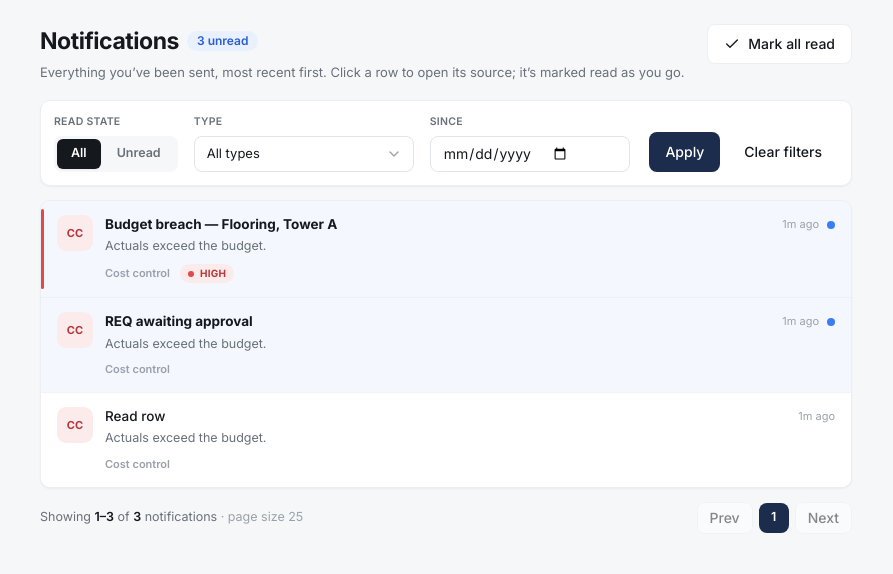
it: NotificationsPage — filters + pagination + empty (FR-NTF-013) › shows "No notifications match these filters." when a filter yields empty
Step 1. Click the button with test id "filter-read-unread" → (139, 154), box x1=103 y1=139 x2=175 y2=169
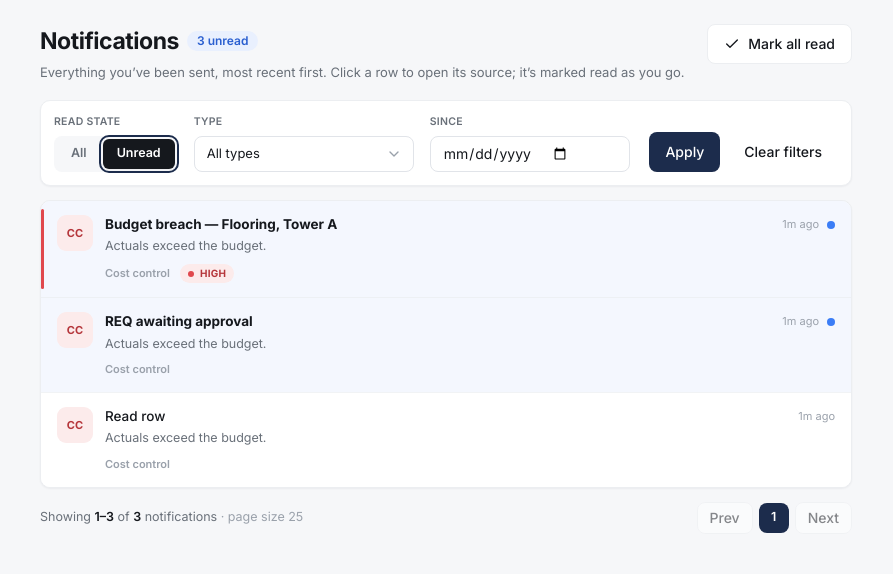
Step 2. Click the button with test id "filter-apply" → (685, 152), box x1=649 y1=132 x2=720 y2=172
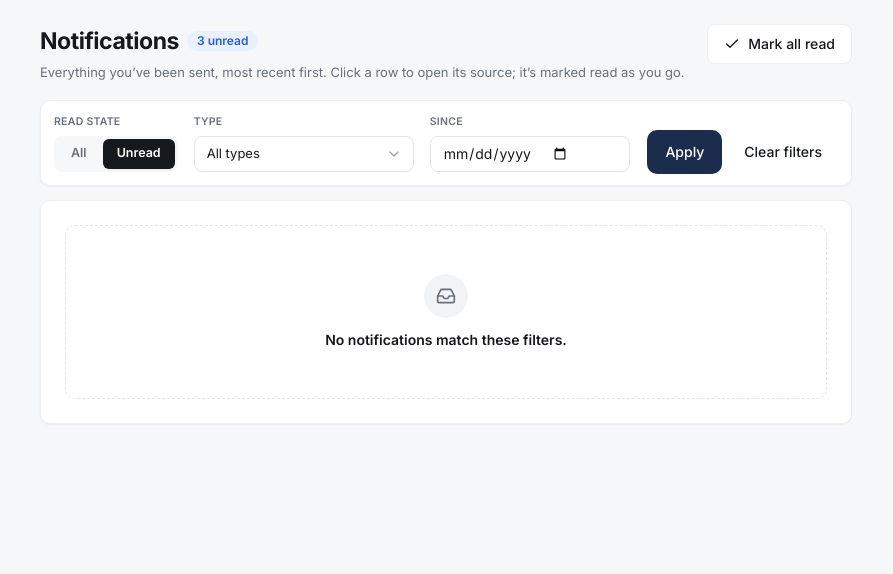
Expected: the element with test id "notifications-empty" reads "No notifications match these filters.", x1=325 y1=331 x2=567 y2=348
